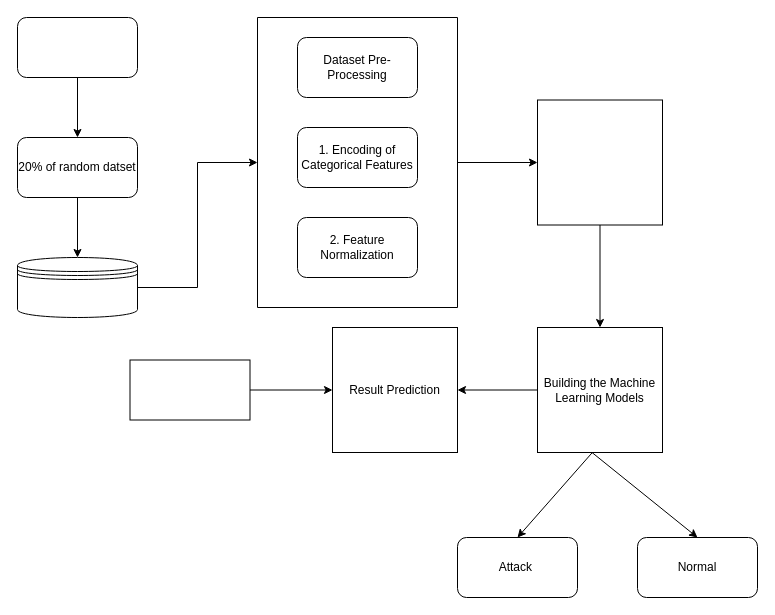
Some shapes in this 775 by 615 pixel diagram are drawn without their labels. The centre of each missing label's shape, as x and y in pixels:
"CICIDS-2017" goes at point 77,47.
"Important Feature Selection" goes at point 599,162.
"Input Dataset Representing Real Network Traffic" goes at point 77,287.
"Test Datasets" goes at point 189,389.
